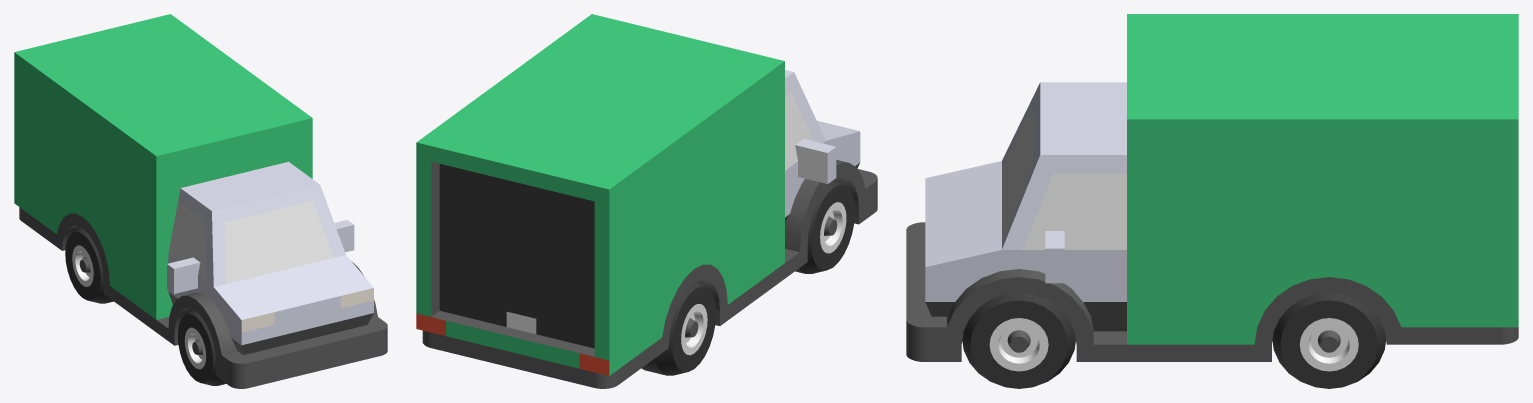
Rendered from delivery.fbx.
The picture shows the model from 3 angles, left to right: view 1: azimuth 30°, elevation 25°; view 2: azimuth 150°, elevation 25°; view 3: azimuth 270°, elevation 25°; orthographic projection. The views are drawn at different scales.
Parts seen in each view (by area): view 1: body, wheel_backRight, wheel_frontRight; view 2: body, door, wheel_backRight, wheel_frontRight; view 3: body, wheel_backLeft, wheel_frontLeft.
Part boxes in pixels (x1,y1,x2,y2): body: [14, 14, 387, 388]; wheel_backRight: [65, 226, 113, 303]; wheel_frontRight: [177, 309, 225, 385]; body: [416, 14, 877, 388]; door: [439, 164, 594, 348]; wheel_backRight: [641, 281, 716, 375]; wheel_frontRight: [795, 179, 854, 273]; body: [906, 14, 1518, 361]; wheel_backLeft: [1272, 292, 1385, 388]; wheel_frontLeft: [962, 292, 1075, 388].
Bounding box in the file's own units: 15 × 16 × 32.
